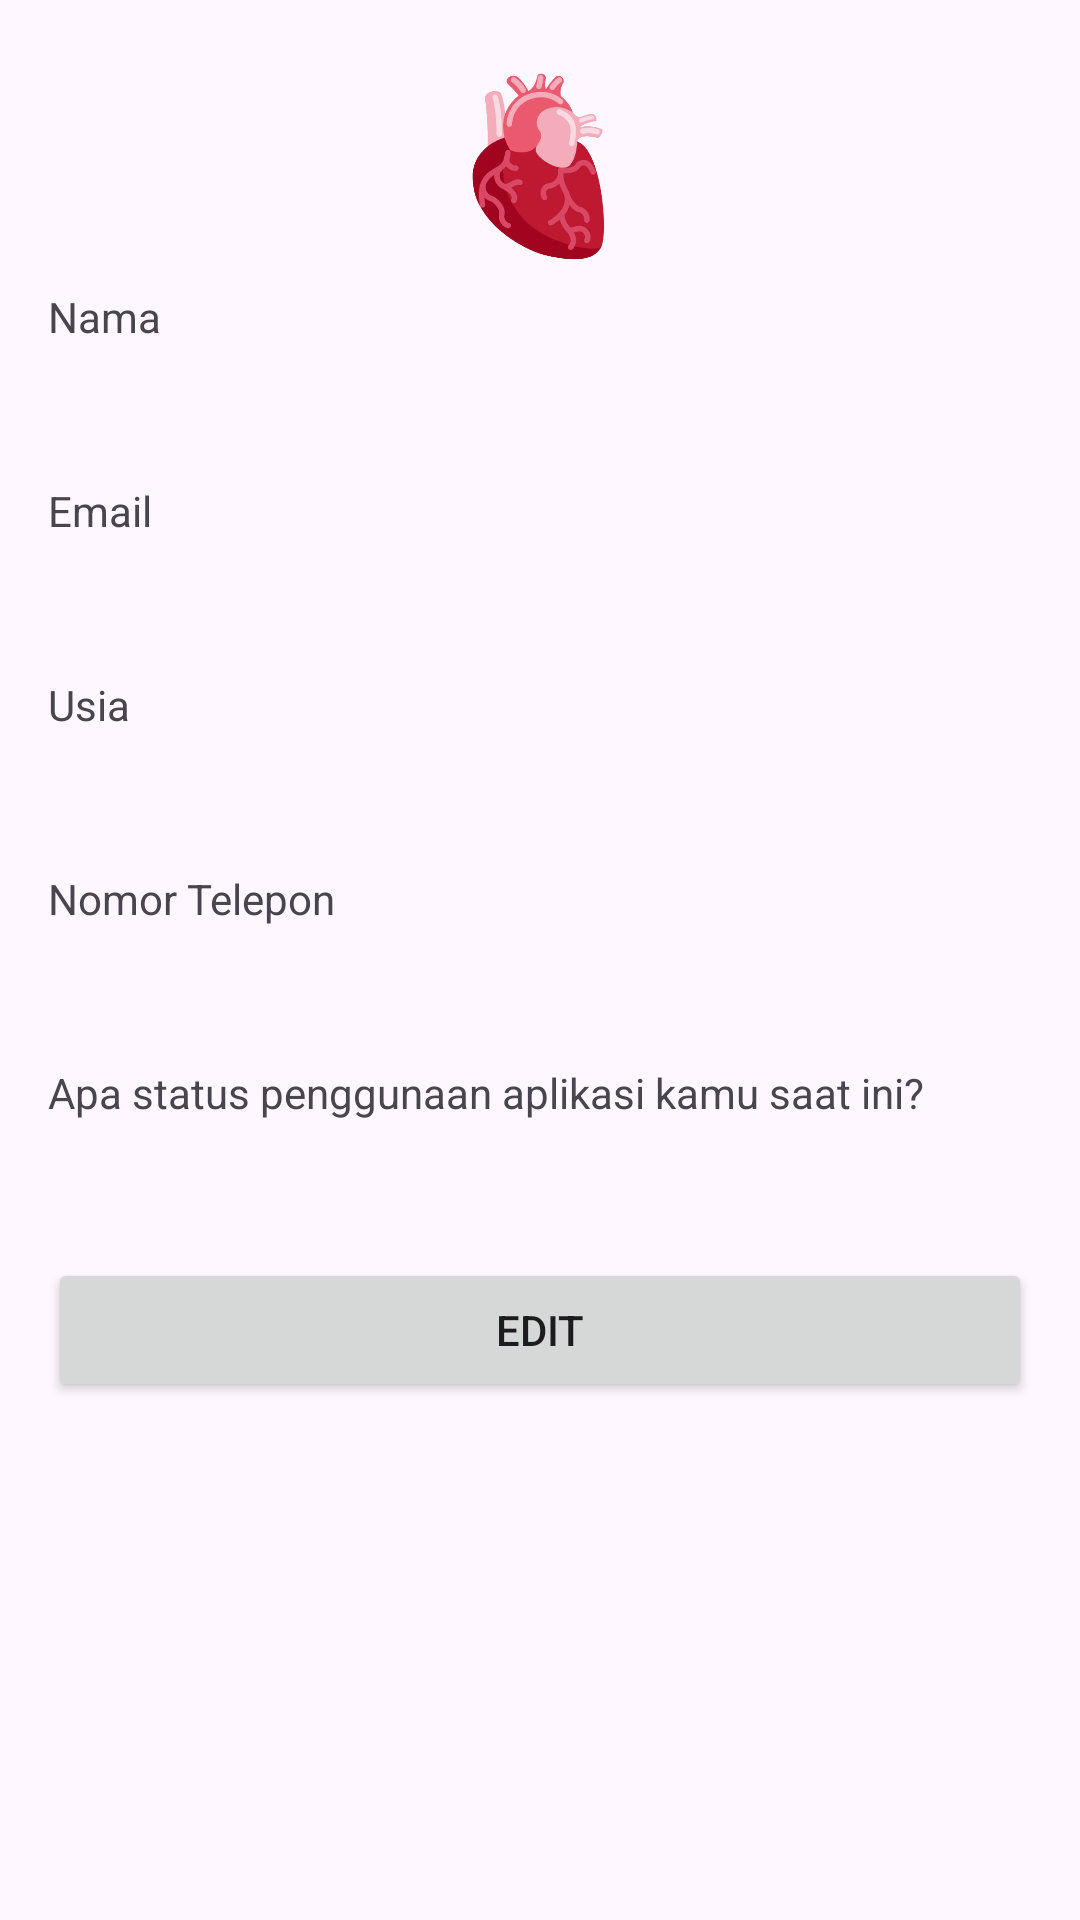

Screen size 1080×1920. Icon name, then its center in pixels as (x,y):
jantung: (538,166)
